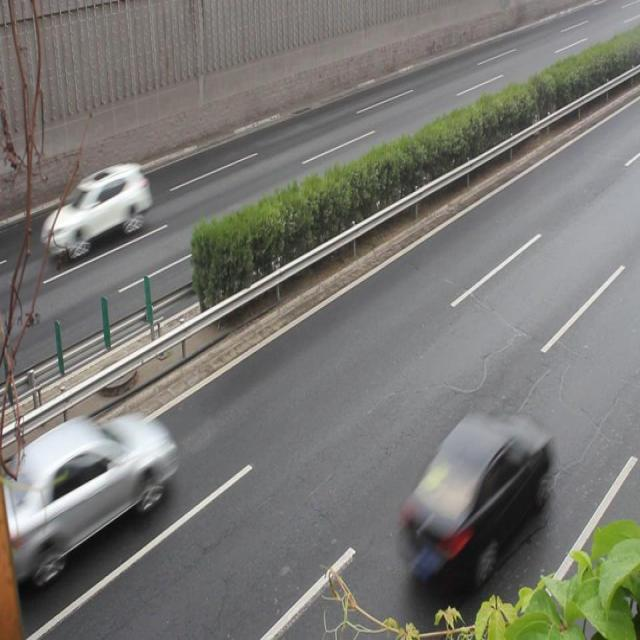car: (398, 412, 542, 572), (16, 414, 170, 556), (41, 162, 150, 258)
